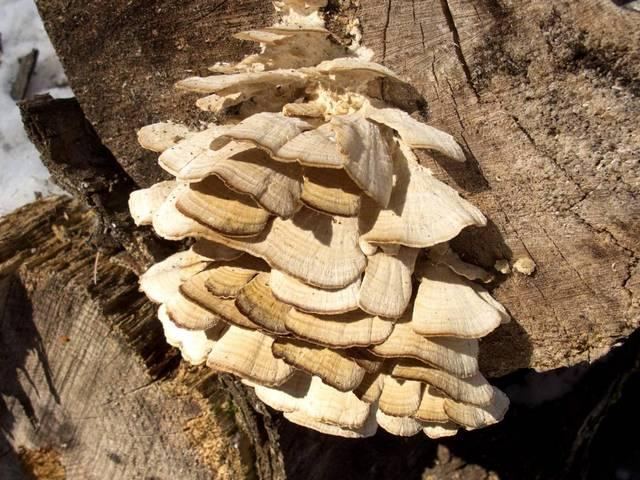poisonous_mushroom: (126, 23, 513, 441)
